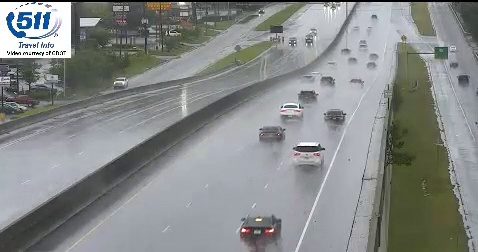car: (241, 213, 280, 242), (293, 142, 323, 165), (258, 125, 284, 142), (280, 103, 303, 120), (324, 109, 344, 125), (299, 89, 316, 103)
